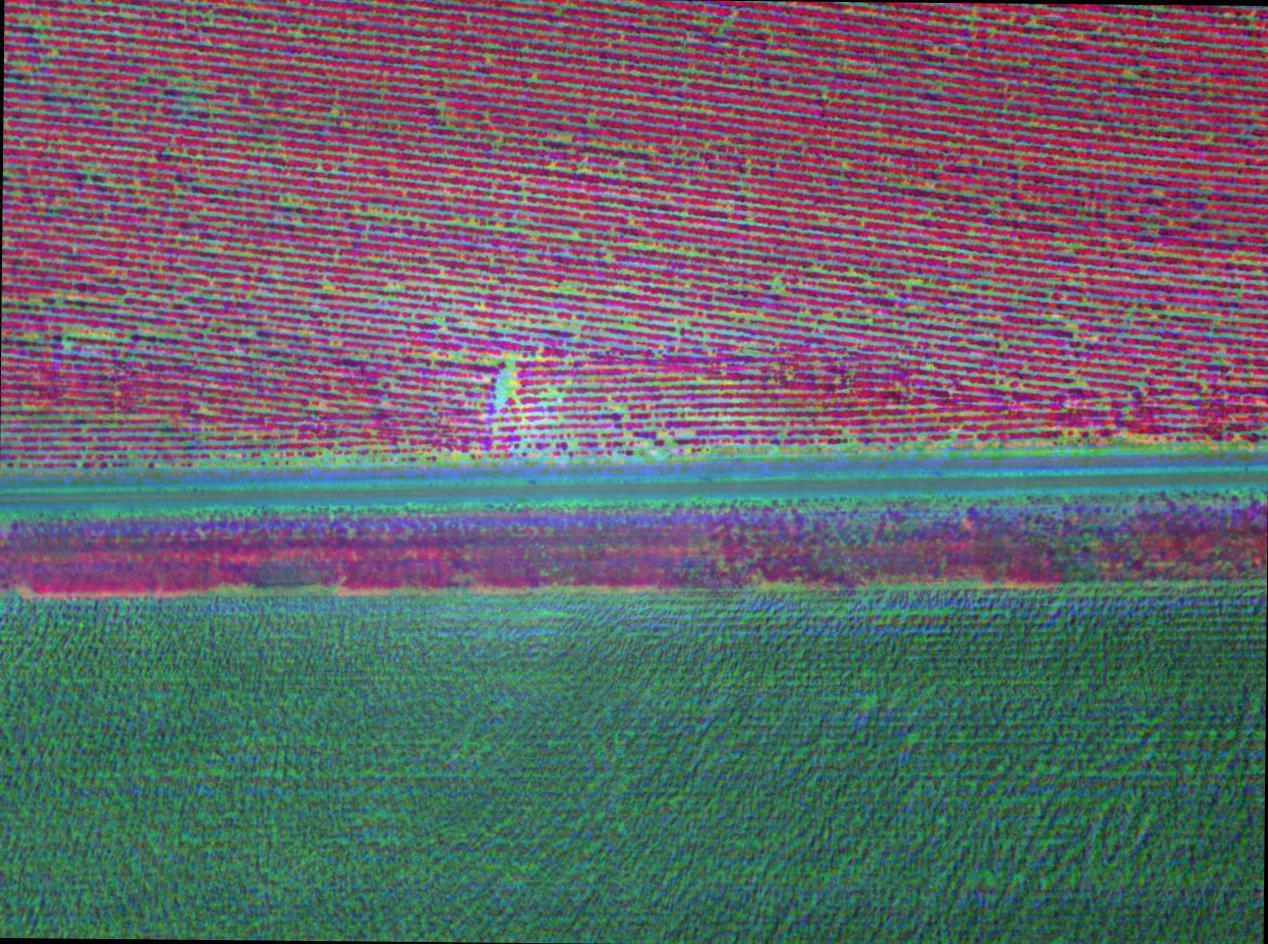dc: (561, 132, 569, 141), (556, 319, 563, 328), (436, 314, 443, 322), (332, 108, 337, 115), (607, 252, 611, 260), (439, 101, 443, 107)
